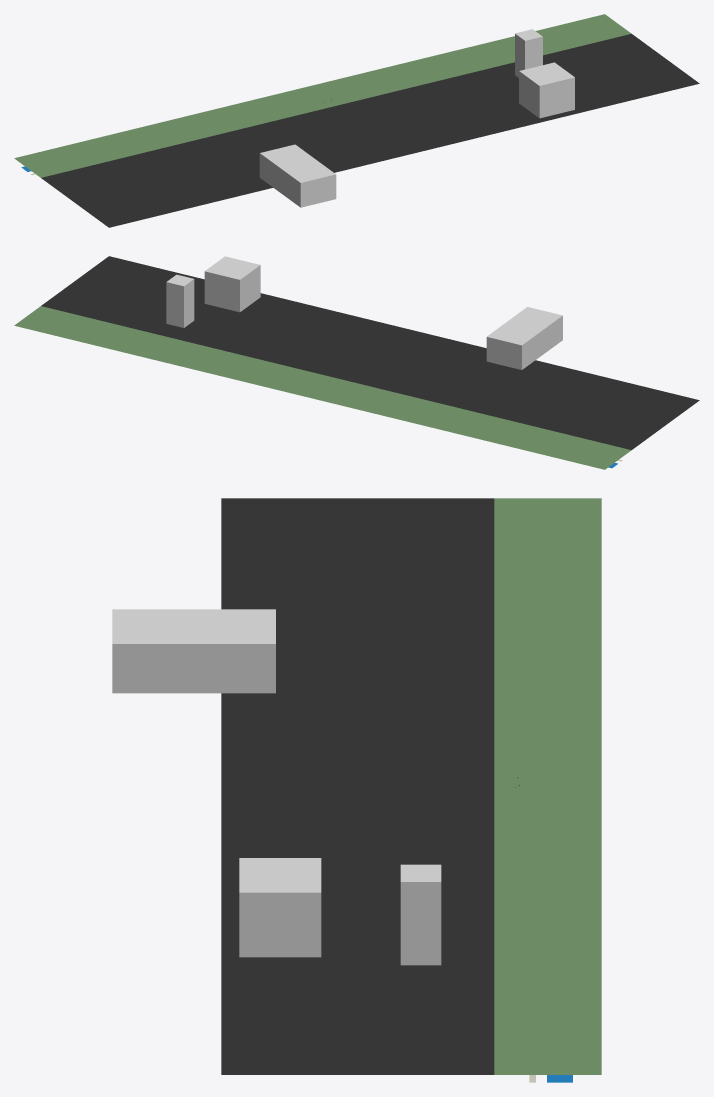
3 renders of one model, top to bottom at view 1: azimuth 30°, elevation 25°; view 2: azimuth 150°, elevation 25°; view 3: azimuth 270°, elevation 25°, orthographic. The views are drawn at different scales.
Parts seen in each view (by area): view 1: PlaneAsphalt, PlaneGrass, Building.006, Building.005, Building.004; view 2: PlaneAsphalt, PlaneGrass, Building.006, Building.005, Building.004; view 3: PlaneAsphalt, PlaneGrass, Building.006, Building.005, Building.004.
Boxes of the visible parts, bbox=[...] form: PlaneAsphalt: bbox=[41, 33, 699, 227]; PlaneGrass: bbox=[14, 14, 631, 177]; Building.006: bbox=[259, 144, 336, 207]; Building.005: bbox=[519, 62, 574, 118]; Building.004: bbox=[515, 29, 542, 77]; PlaneAsphalt: bbox=[41, 256, 699, 450]; PlaneGrass: bbox=[14, 306, 631, 469]; Building.006: bbox=[486, 307, 562, 369]; Building.005: bbox=[204, 256, 260, 312]; Building.004: bbox=[166, 274, 194, 327]; PlaneAsphalt: bbox=[221, 498, 494, 1074]; PlaneGrass: bbox=[494, 498, 601, 1074]; Building.006: bbox=[112, 609, 275, 693]; Building.005: bbox=[239, 858, 321, 957]; Building.004: bbox=[400, 864, 441, 965].
Size of the model in its own units: 160000 by 57390 by 11781.
